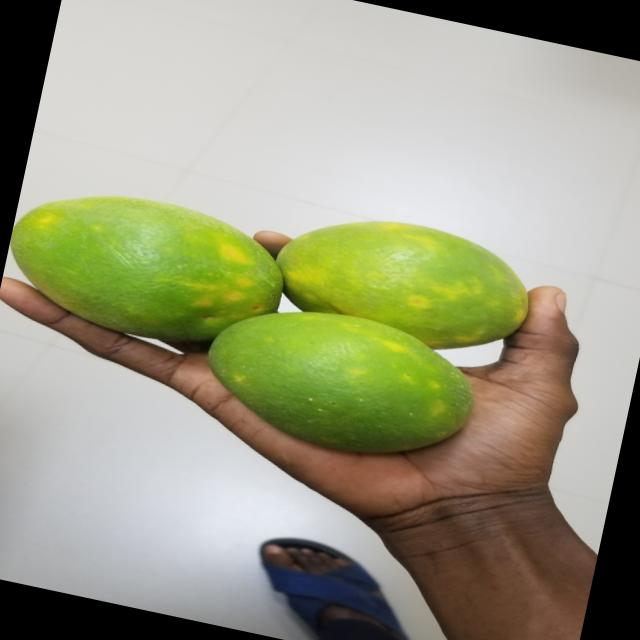Ripe orange: (0, 170, 306, 365), (186, 285, 492, 479), (268, 195, 558, 366)
